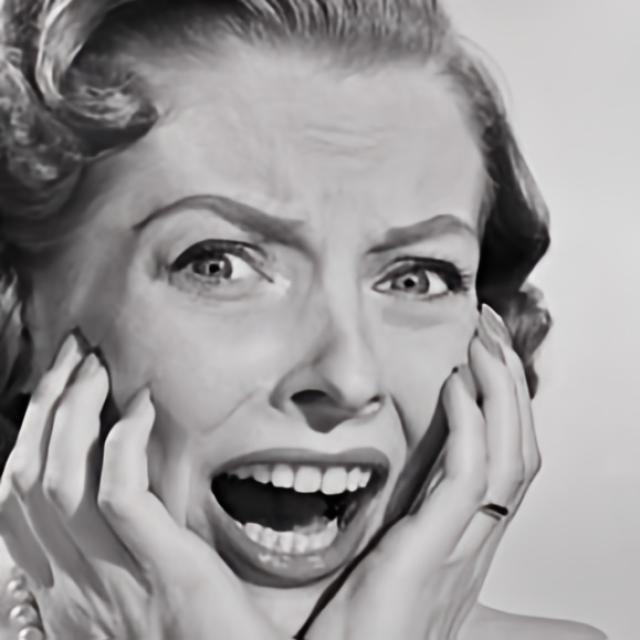fear: (27, 29, 496, 640)
